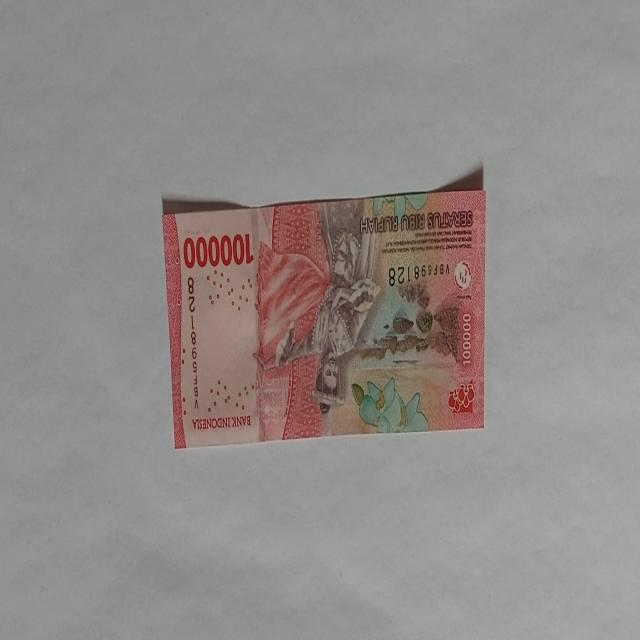seratus ribu rupiah: (162, 186, 486, 448), (273, 226, 382, 412)
